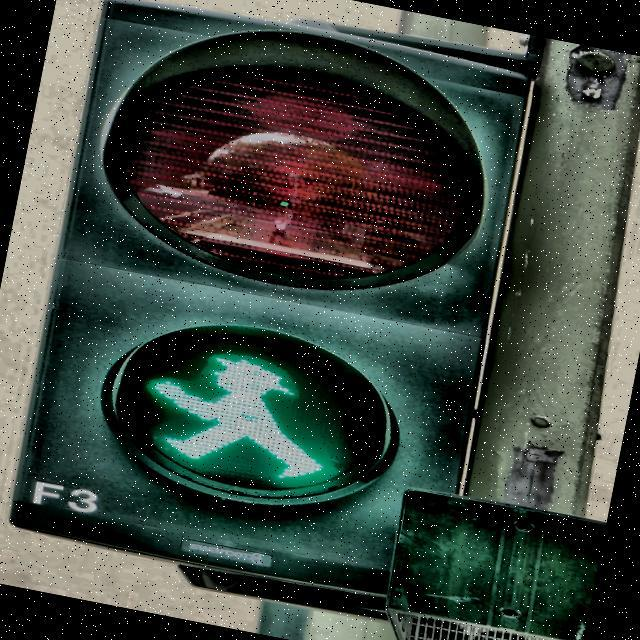green_light: (128, 334, 354, 496)
